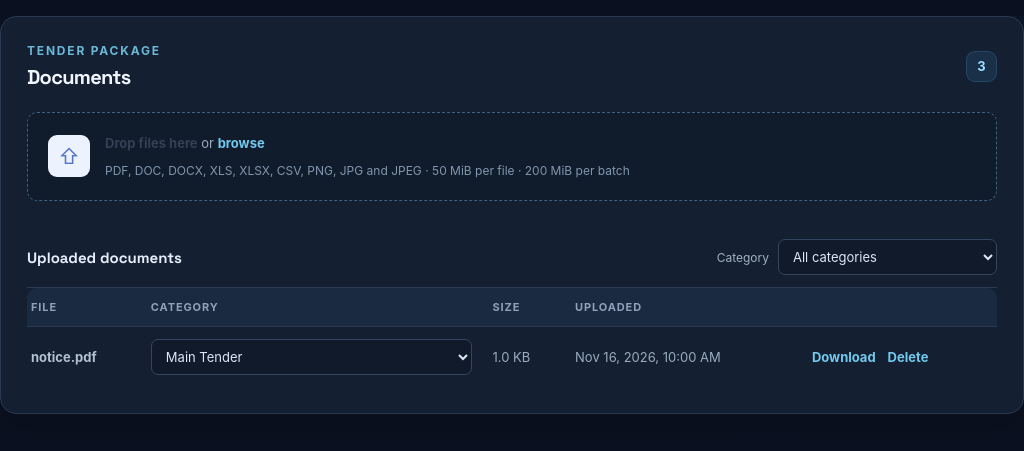
Test: tender document management › reports delete failures without removing the document
Check: the text "notice.pdf" is shown, box [31,349,97,365]
Click the button "Delete": {"x": 908, "y": 357} [888,349,928,365]
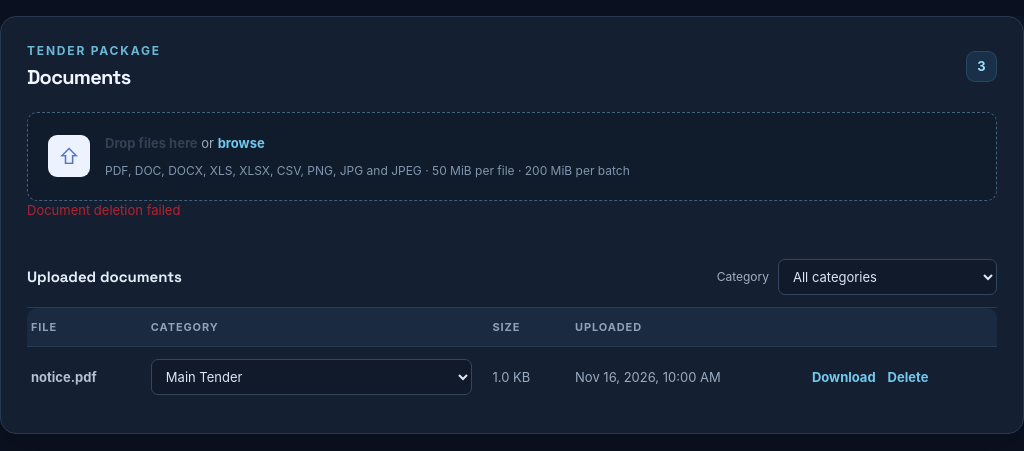
Check: the text "notice.pdf" is shown, box [31,368,97,384]
Check: the message reads "Document deletion failed", box [27,202,180,218]
